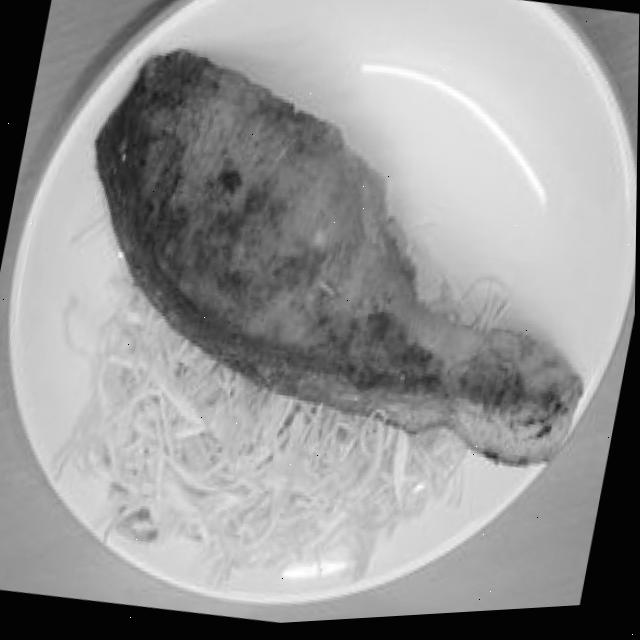熟制海鲜: (67, 36, 638, 486)
